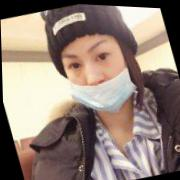WRONG: (58, 25, 136, 118)
